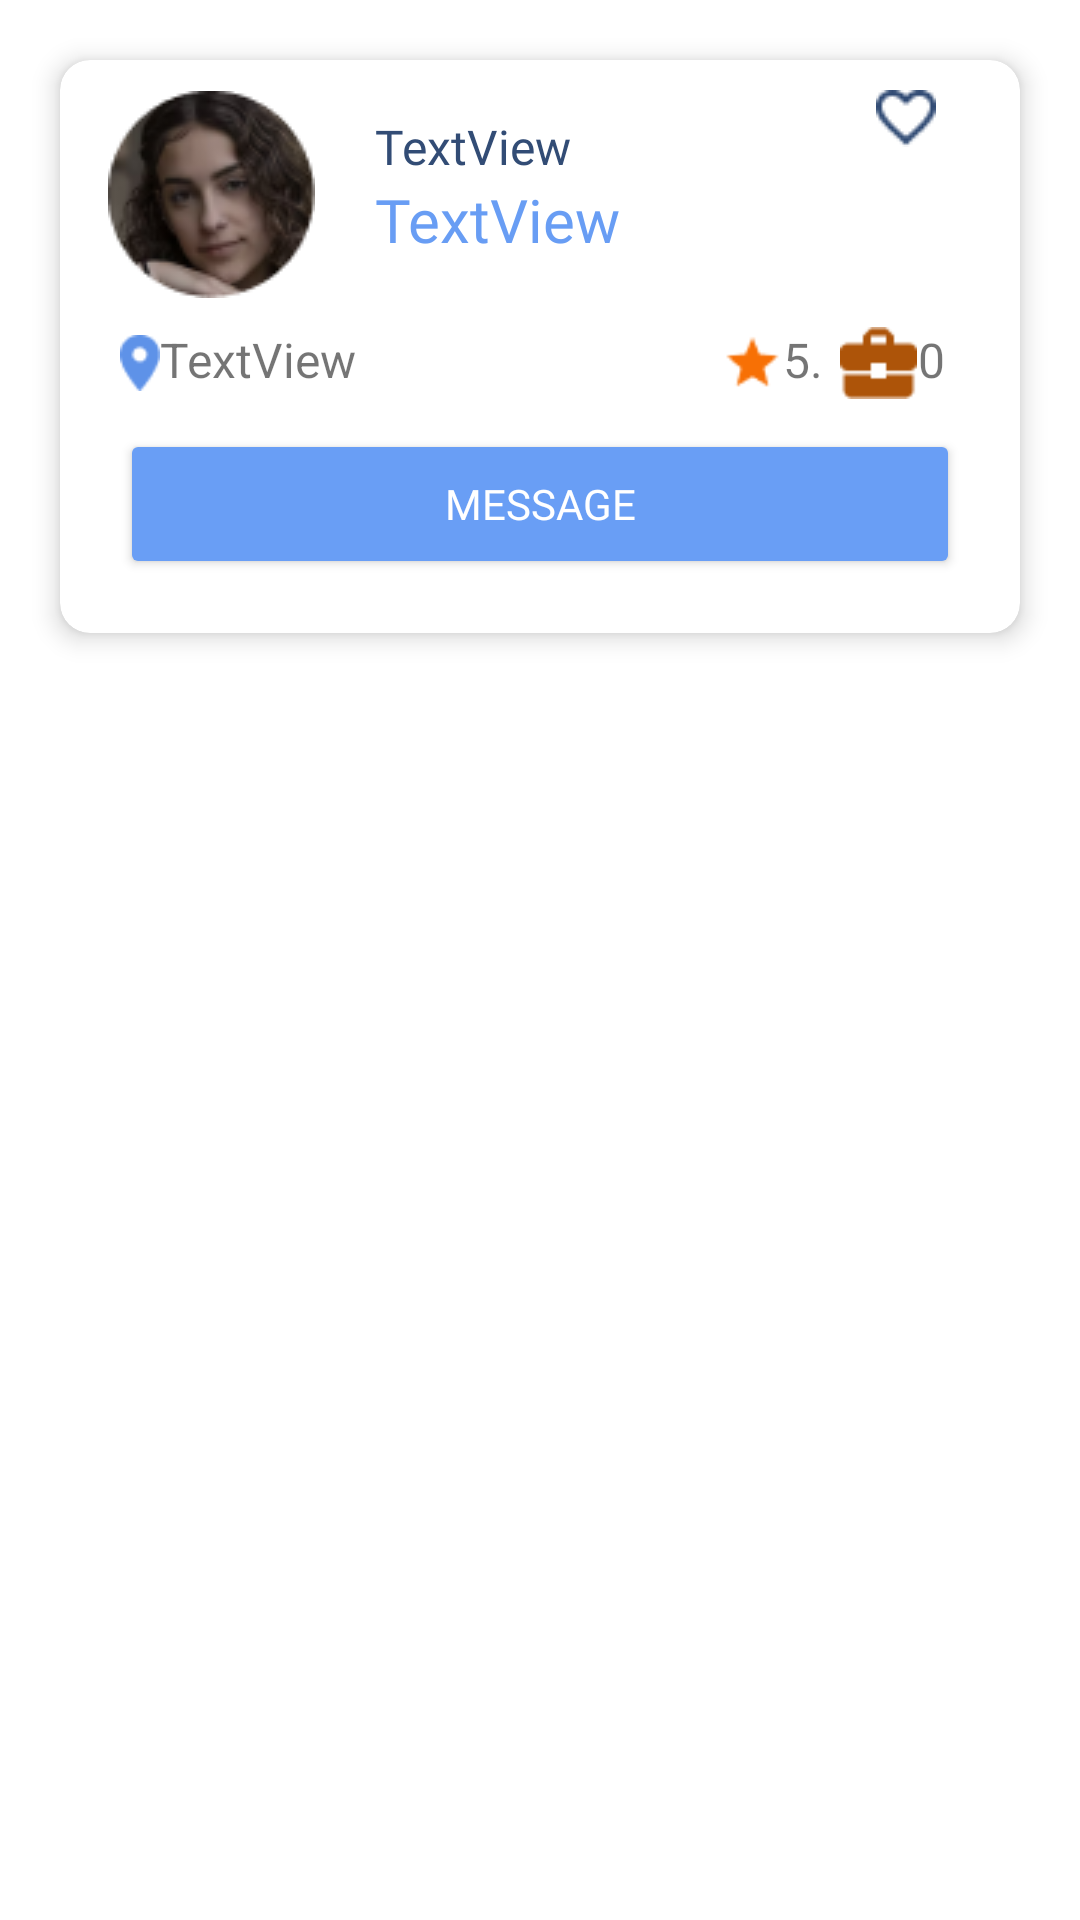

Point at icon controls on the screen. Image size 1080*1920, points as (x=x, y=y).
explore heart: (x=906, y=117)
explore location: (x=140, y=363)
explore star: (x=752, y=362)
rate job done: (x=878, y=363)
